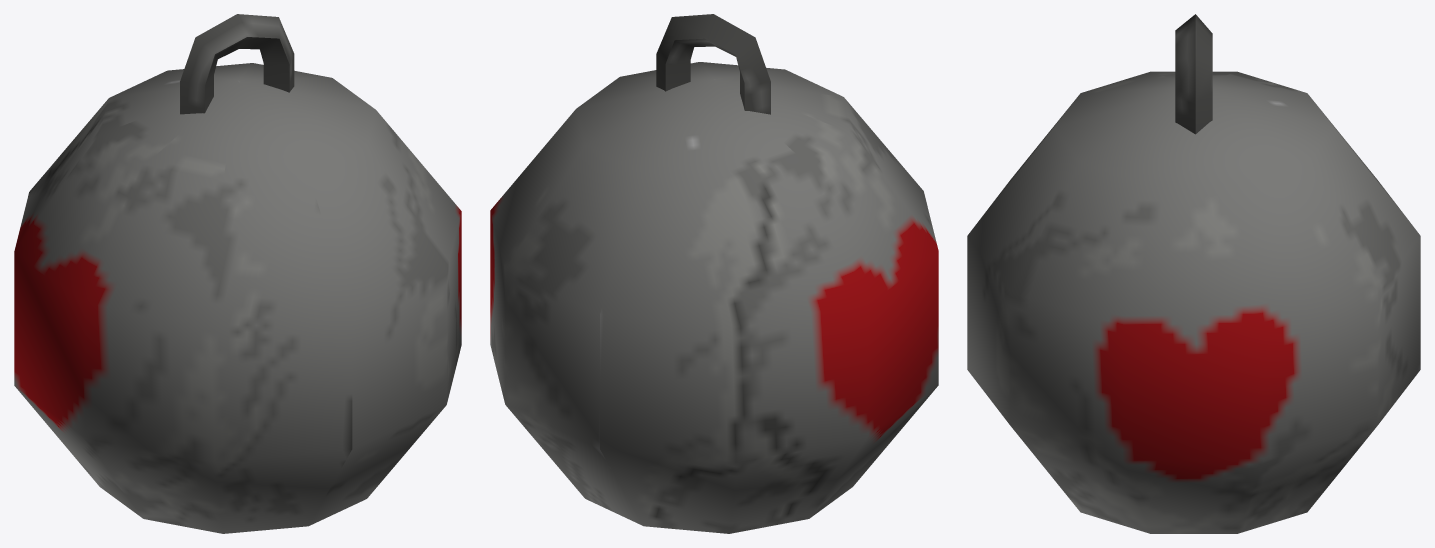
The model's file is ball.FBX.
3 views of the same model, side by side, from view 1: azimuth 30°, elevation 25°; view 2: azimuth 150°, elevation 25°; view 3: azimuth 270°, elevation 25° (orthographic).
Visible parts, largest first — view 1: Sphere001; view 2: Sphere001; view 3: Sphere001.
Boxes of the visible parts, x1,y1,x2,y2 form: Sphere001: (14,14,461,533); Sphere001: (490,14,938,533); Sphere001: (967,14,1420,533).
Size of the model in its own units: 65.55 by 83.47 by 68.93.
